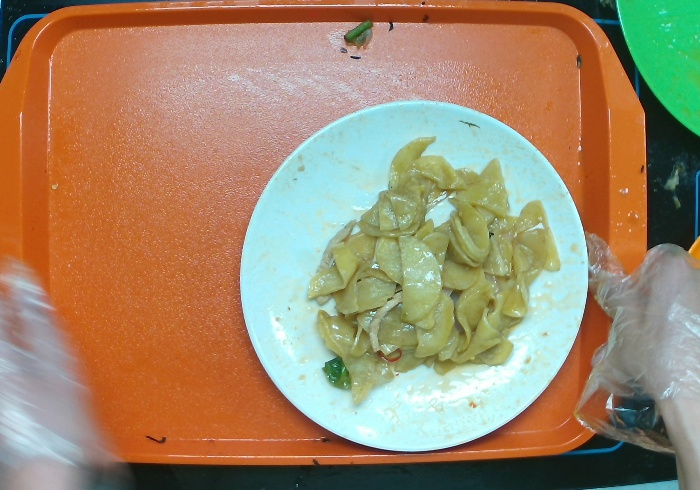HZYJPL-Bai_Se_Yuan_Pan: (233, 94, 592, 457)
